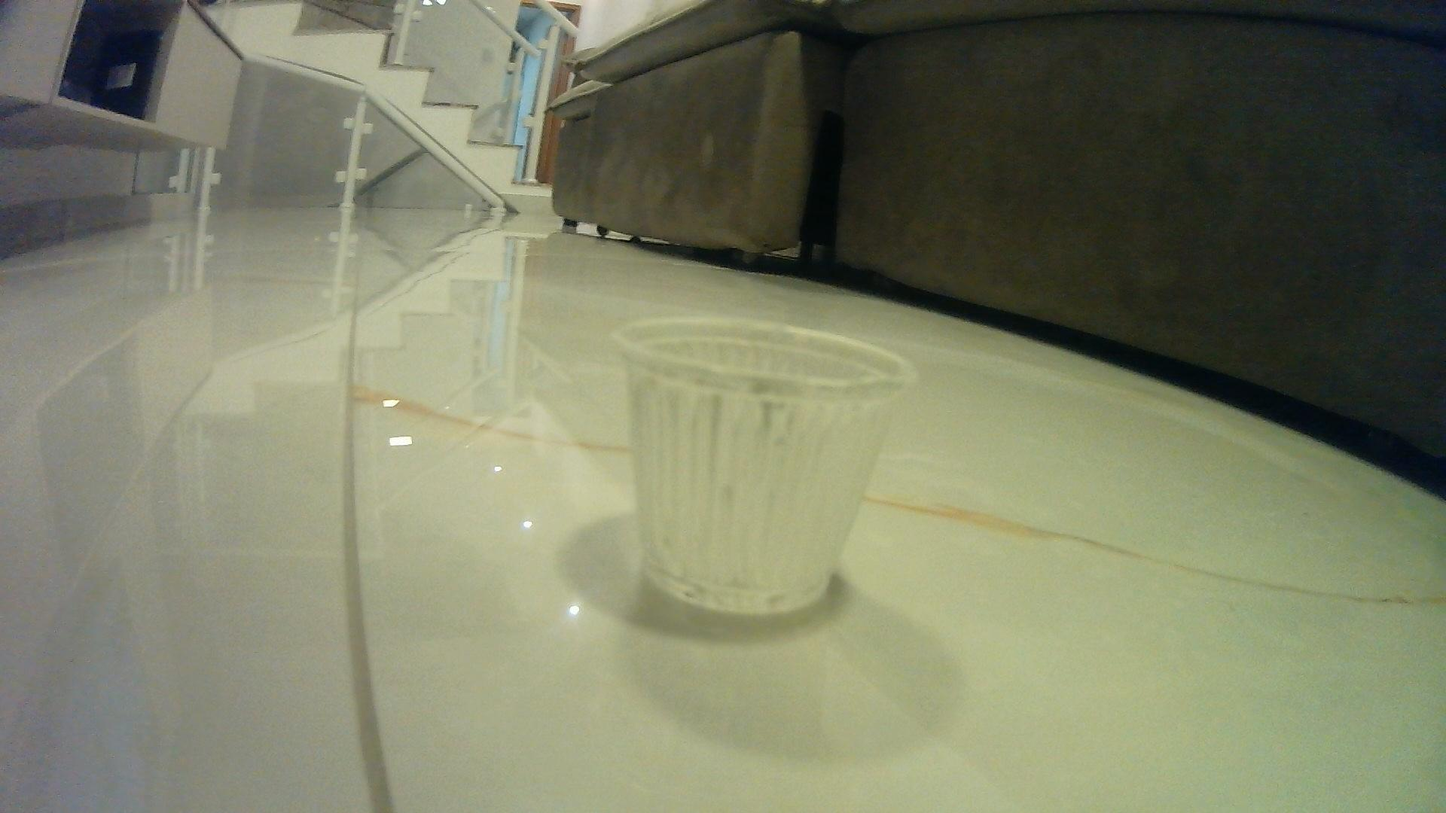planta: (606, 307, 926, 620)
